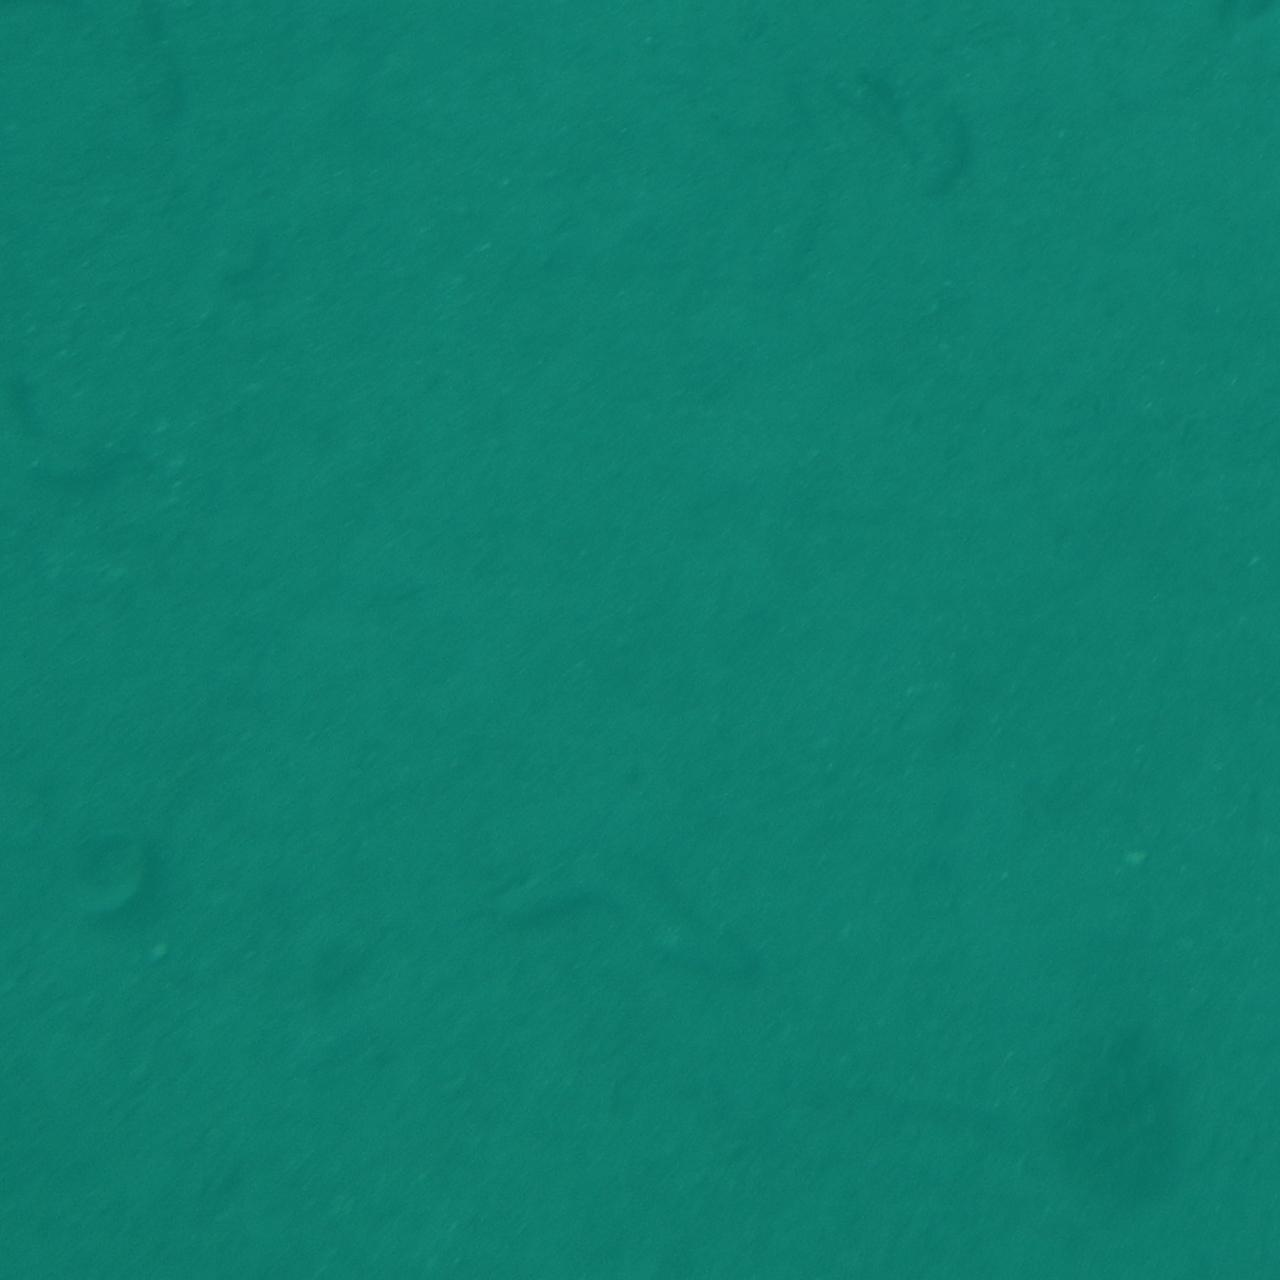Holothuria tubulosa: (492, 855, 788, 993)
